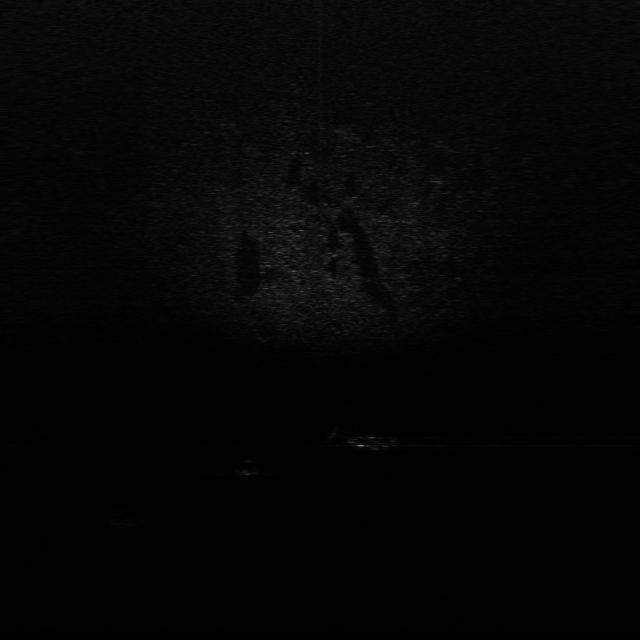ball: (236, 458, 264, 478)
circle cage: (101, 507, 148, 529)
human body: (328, 426, 408, 452)
